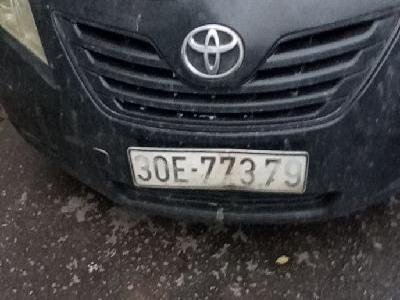car: (126, 147, 308, 197)
